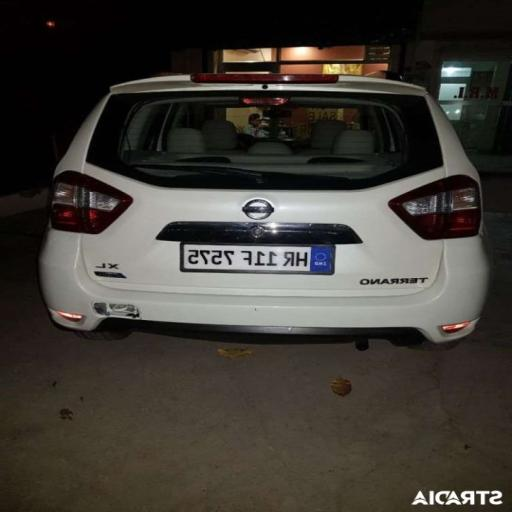License: (180, 242, 336, 272)
